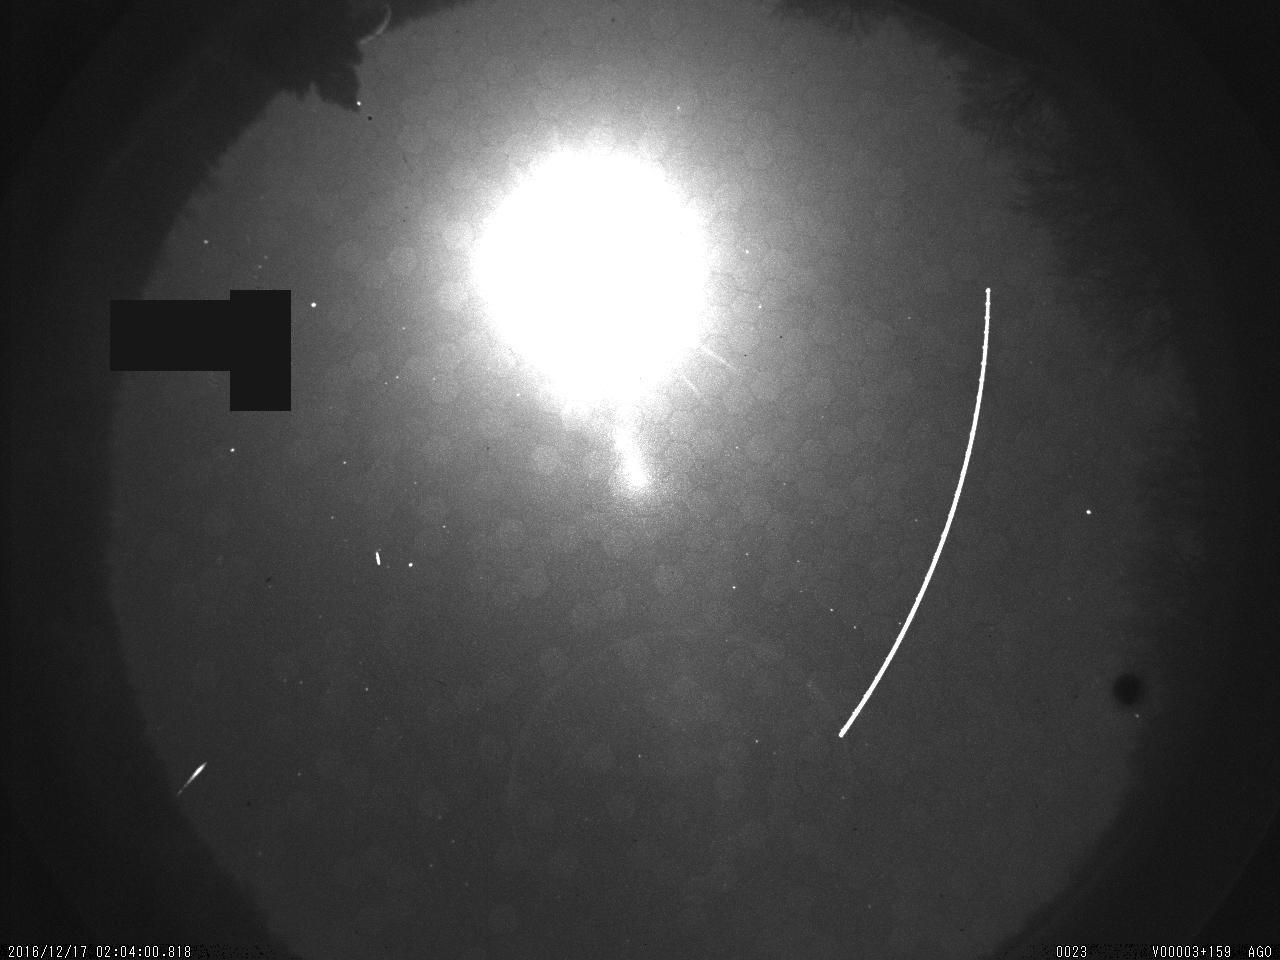meteor: (170, 752, 219, 804)
